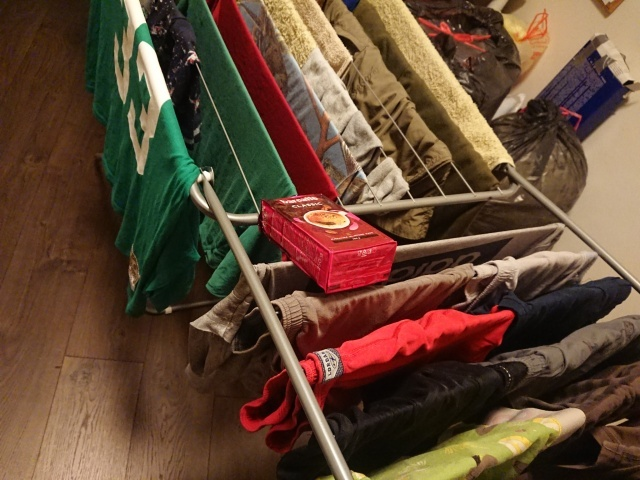Barcaffe Classic Original 225g: (254, 190, 397, 299)
